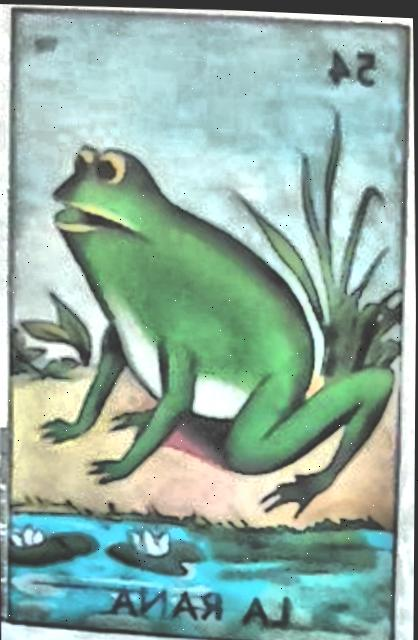La Rana: (9, 12, 405, 640)
